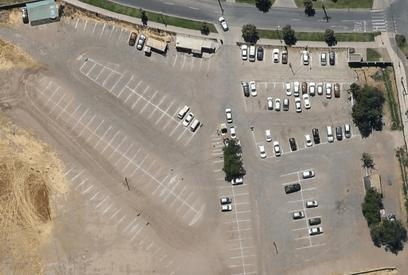parkingspot: (34, 76, 207, 214), (33, 92, 200, 226), (63, 165, 180, 275), (109, 80, 196, 147), (118, 69, 204, 135), (226, 137, 258, 275), (211, 152, 246, 275), (256, 121, 361, 160), (74, 17, 149, 55), (281, 172, 312, 250), (297, 168, 327, 248), (252, 121, 350, 145), (240, 46, 348, 67), (240, 82, 352, 98), (79, 58, 124, 92), (244, 98, 353, 112), (165, 51, 211, 73)
